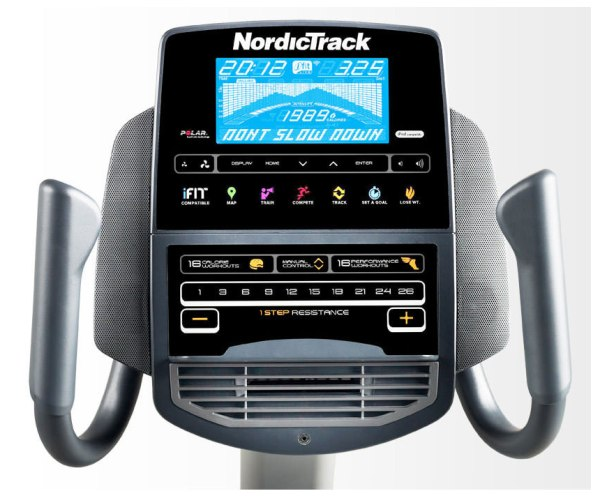gym_bike: (19, 10, 574, 494)
